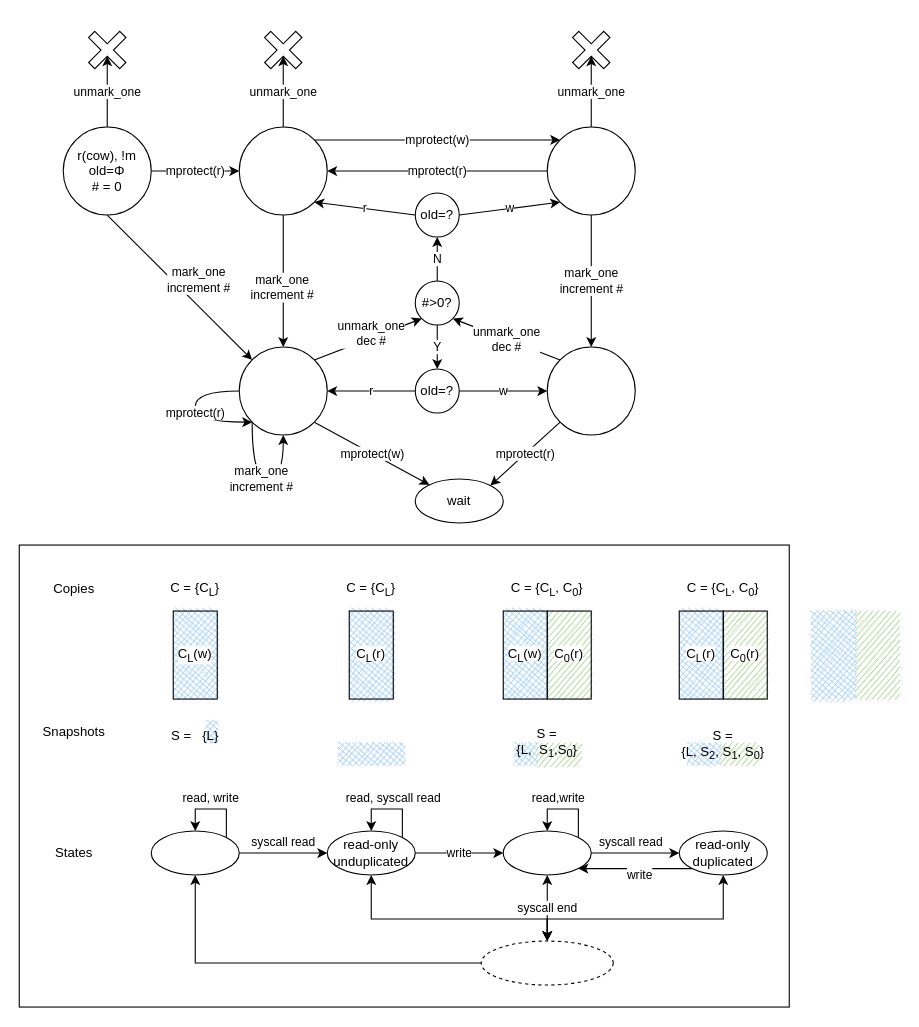
This 919x1027 diagram has some shape labels left out. The box of each missing label's shape, as (x1, y1, x2, y2) in pixels:
r, !m old= Φ # = 0: (238, 126, 327, 215)
r, m old= r # > 0: (238, 346, 327, 435)
r, m old= w # > 0: (546, 346, 635, 435)
release snapshots/copies: (480, 940, 613, 985)
S = {L, S 1 , S 0 }: (338, 743, 404, 765)
w, !m old= Φ # = 0: (546, 126, 635, 215)
writable duplicated: (502, 830, 591, 875)
writable unduplicated: (150, 830, 239, 875)
